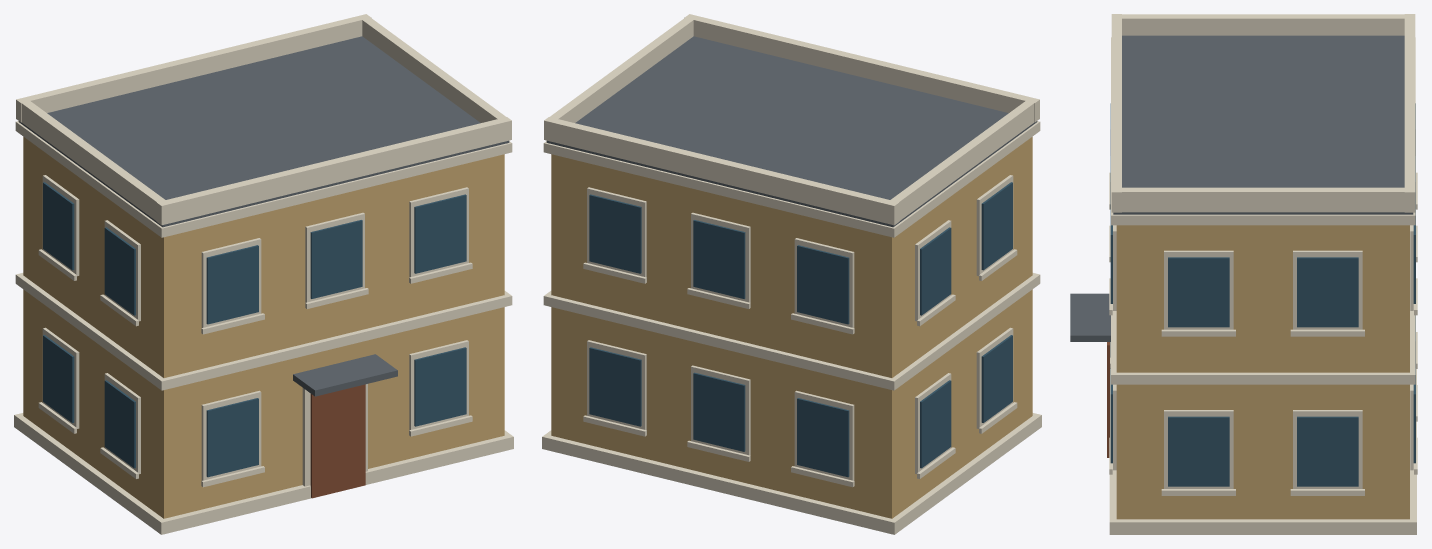
The model's file is 09-shop.glb.
The picture shows the model from 3 angles, left to right: view 1: azimuth 30°, elevation 25°; view 2: azimuth 150°, elevation 25°; view 3: azimuth 270°, elevation 25°; orthographic projection. The views are drawn at different scales.
Visible parts, largest first — view 1: 09-shop; view 2: 09-shop; view 3: 09-shop.
Part boxes in pixels (x1=…): 09-shop: x1=14, y1=14, x2=513, y2=534; 09-shop: x1=542, y1=14, x2=1041, y2=534; 09-shop: x1=1070, y1=14, x2=1417, y2=534.
Bounding box in the file's own units: 7.26 × 6.44 × 5.92.
